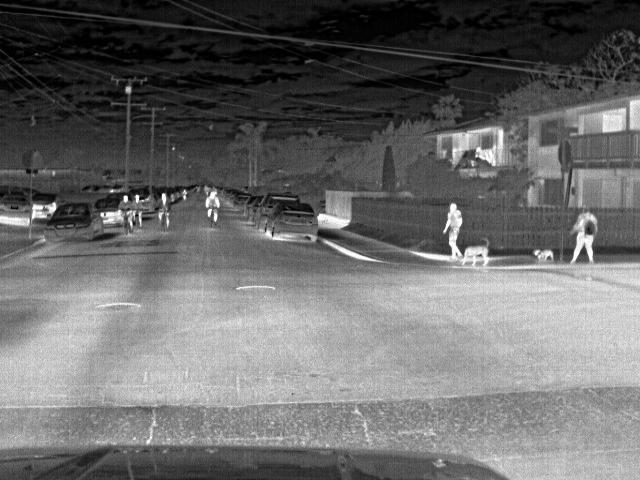car: (46, 202, 105, 242), (271, 200, 322, 244), (264, 196, 304, 236), (0, 194, 34, 224), (92, 197, 123, 228), (30, 192, 61, 221)
dog: (460, 241, 494, 267), (532, 246, 558, 266)
person: (565, 206, 596, 264), (440, 200, 463, 262), (156, 190, 172, 232), (127, 192, 145, 229), (116, 194, 134, 231), (203, 190, 223, 223)
